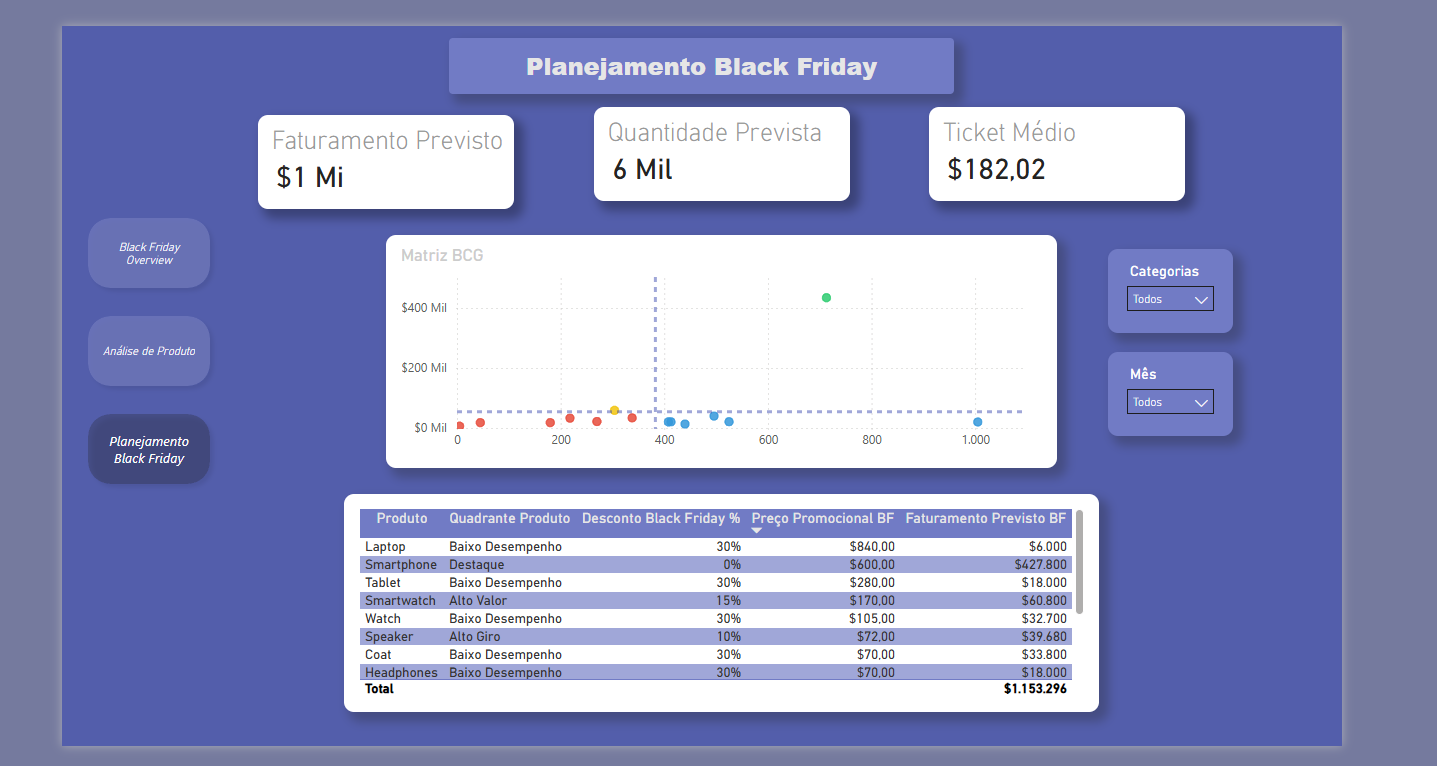

The page's visual inventory and layout, read from the dashboard file:
{"tool":"powerbi","page":{"name":"Planejamento Black Friday","canvas":[1280,720],"ordinal":2},"visuals":[{"type":"textbox","box":[387,12,505,56],"z":0},{"type":"scatterChart","title":"Matriz BCG","fields":{"Category":["sales_data.Produto"],"X":["Sum(sales_data.Quantidade)"],"Y":["Sum(sales_data.Receita)"]},"box":[324,209,671,233],"z":1000},{"type":"tableEx","fields":{"Values":["sales_data.Produto","sales_data.Quadrante Produtos","medidas.Desconto Black Friday %","medidas.Preço Promocional BF","medidas.Faturamento Previsto BF"]},"box":[282,468,755,218],"z":2000},{"type":"cardVisual","title":"Faturamento Previsto","fields":{"Data":["medidas.Faturamento Previsto BF"]},"box":[196,89,256,94],"z":3000},{"type":"cardVisual","title":"Quantidade Prevista","fields":{"Data":["medidas.Previsão Quantidade Total BF"]},"box":[532,81,256,94],"z":4000},{"type":"cardVisual","title":"Ticket Médio","fields":{"Data":["medidas.Ticket Médio BF"]},"box":[867,81,256,94],"z":5000},{"type":"slicer","fields":{"Values":["sales_data.Categoria"]},"box":[1046,223,125,84],"z":6000},{"type":"slicer","fields":{"Values":["sales_data.Mês"]},"box":[1046,326,125,84],"z":7000},{"type":"pageNavigator","box":[17,183,140,285],"z":8000}]}

Visuals, with their boxes on the page's 1280x720 design canvas (x1, y1, x2, y2). These are canvas units, not pixel positions in the 1437x766 screenshot, which may show the page scaled, cropped or inside an application window:
textbox: bbox=[387, 12, 892, 68]
"Matriz BCG" scatterChart: bbox=[324, 209, 995, 442]
tableEx - sales_data.Produto x sales_data.Quadrante Produtos: bbox=[282, 468, 1037, 686]
"Faturamento Previsto" cardVisual: bbox=[196, 89, 452, 183]
"Quantidade Prevista" cardVisual: bbox=[532, 81, 788, 175]
"Ticket Médio" cardVisual: bbox=[867, 81, 1123, 175]
slicer - sales_data.Categoria: bbox=[1046, 223, 1171, 307]
slicer - sales_data.Mês: bbox=[1046, 326, 1171, 410]
pageNavigator: bbox=[17, 183, 157, 468]
